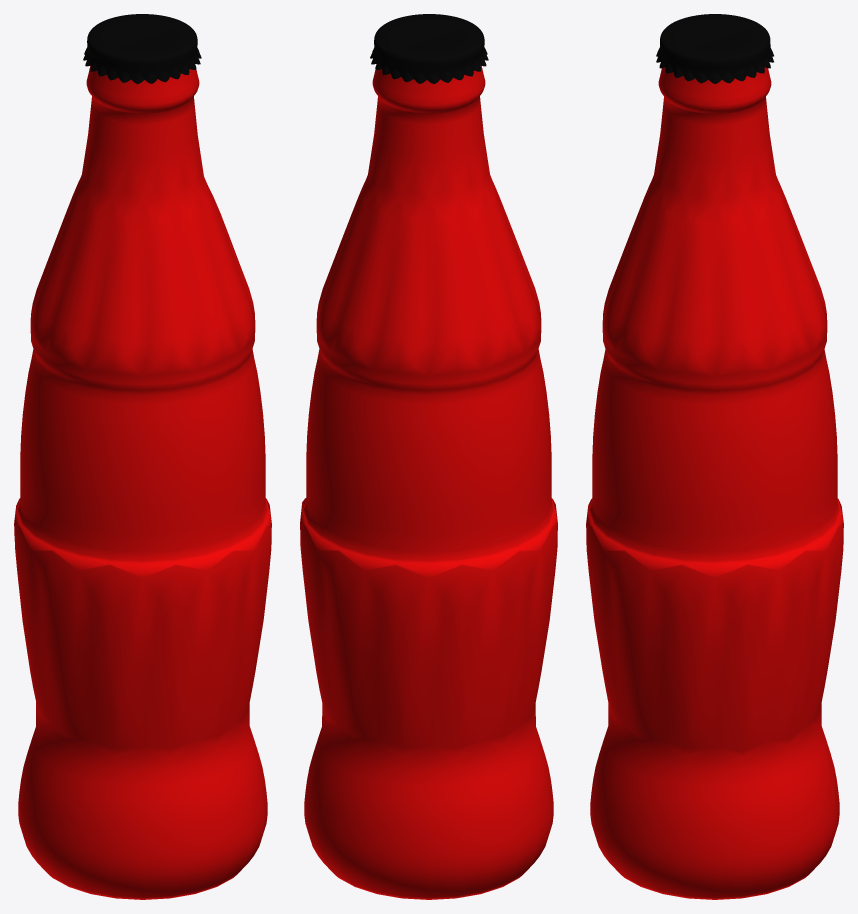
The model's file is Soda.fbx.
The picture shows the model from 3 angles, left to right: view 1: azimuth 30°, elevation 25°; view 2: azimuth 150°, elevation 25°; view 3: azimuth 270°, elevation 25°; orthographic projection.
Visible parts, largest first — view 1: Line02; view 2: Line02; view 3: Line02.
Part boxes in pixels (x1=…): Line02: x1=14, y1=14, x2=271, y2=899; Line02: x1=300, y1=14, x2=557, y2=899; Line02: x1=586, y1=14, x2=843, y2=899.
Size of the model in its own units: 0.8766 by 3.08 by 0.8769.
